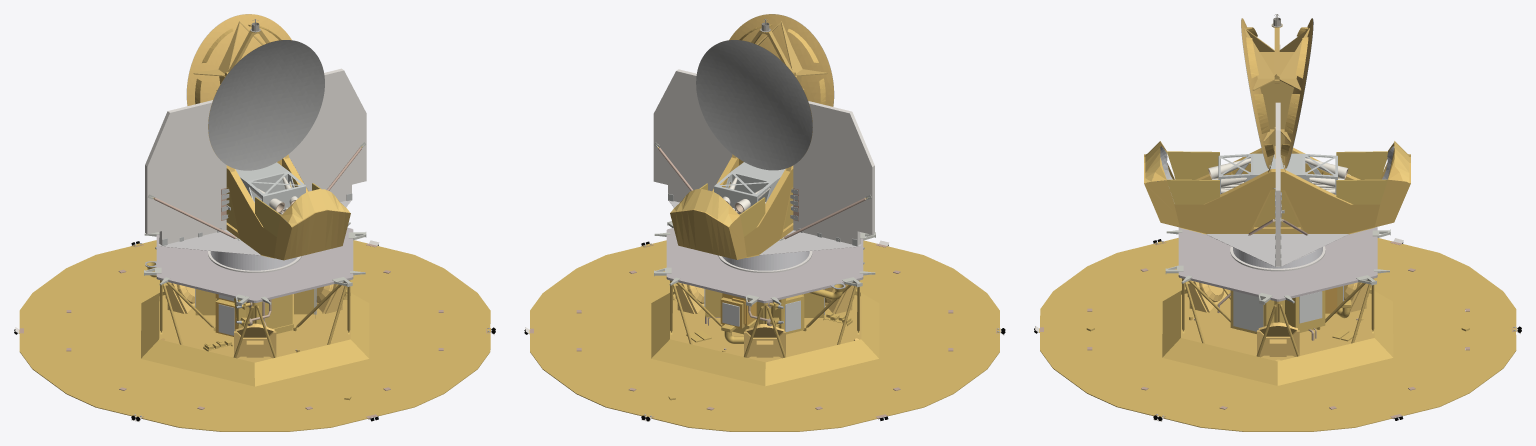
The model's file is wilkinson-microwave-anisotropy-probe-wmap.glb.
The picture shows the model from 3 angles, left to right: view 1: azimuth 30°, elevation 25°; view 2: azimuth 150°, elevation 25°; view 3: azimuth 270°, elevation 25°; orthographic projection.
Visible parts, largest first — view 1: Layer_0; view 2: Layer_0; view 3: Layer_0.
Boxes of the visible parts, x1=… form: Layer_0: x1=14, y1=14, x2=495, y2=431; Layer_0: x1=524, y1=14, x2=1005, y2=431; Layer_0: x1=1034, y1=14, x2=1521, y2=431.
Size of the model in its own units: 278 by 208 by 283.
2 materials, 2 textured.
